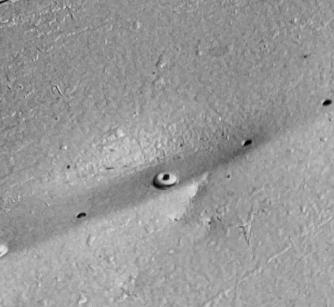dent: (1, 0, 334, 307)
